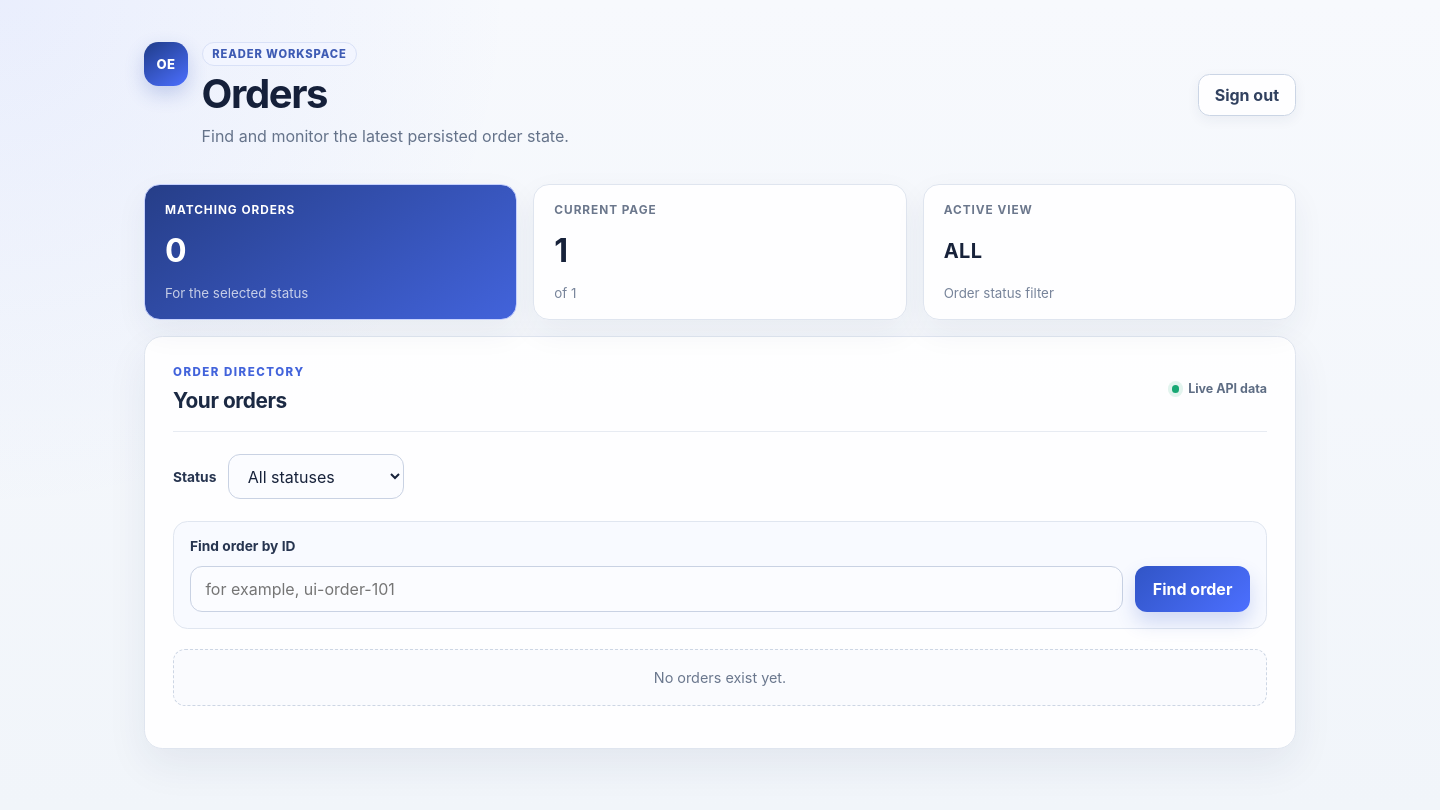
Scenario: Dashboard › shows the lookup error returned by the API client
Type "missing-order" into the field labelled "Find order by ID" at (657, 589), box [190,566,1123,612]
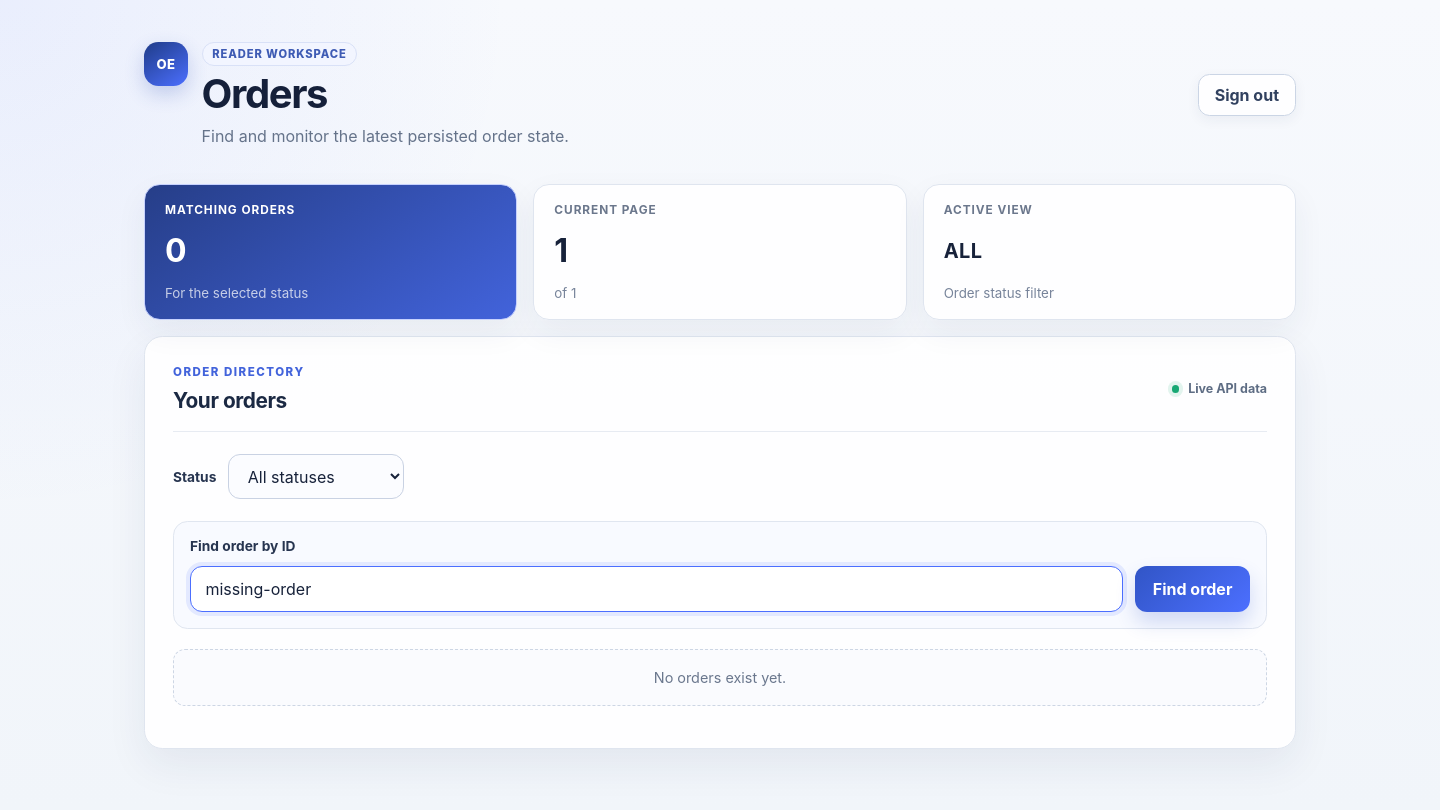
Click the button "Find order" at (1193, 589), box [1135,566,1250,612]
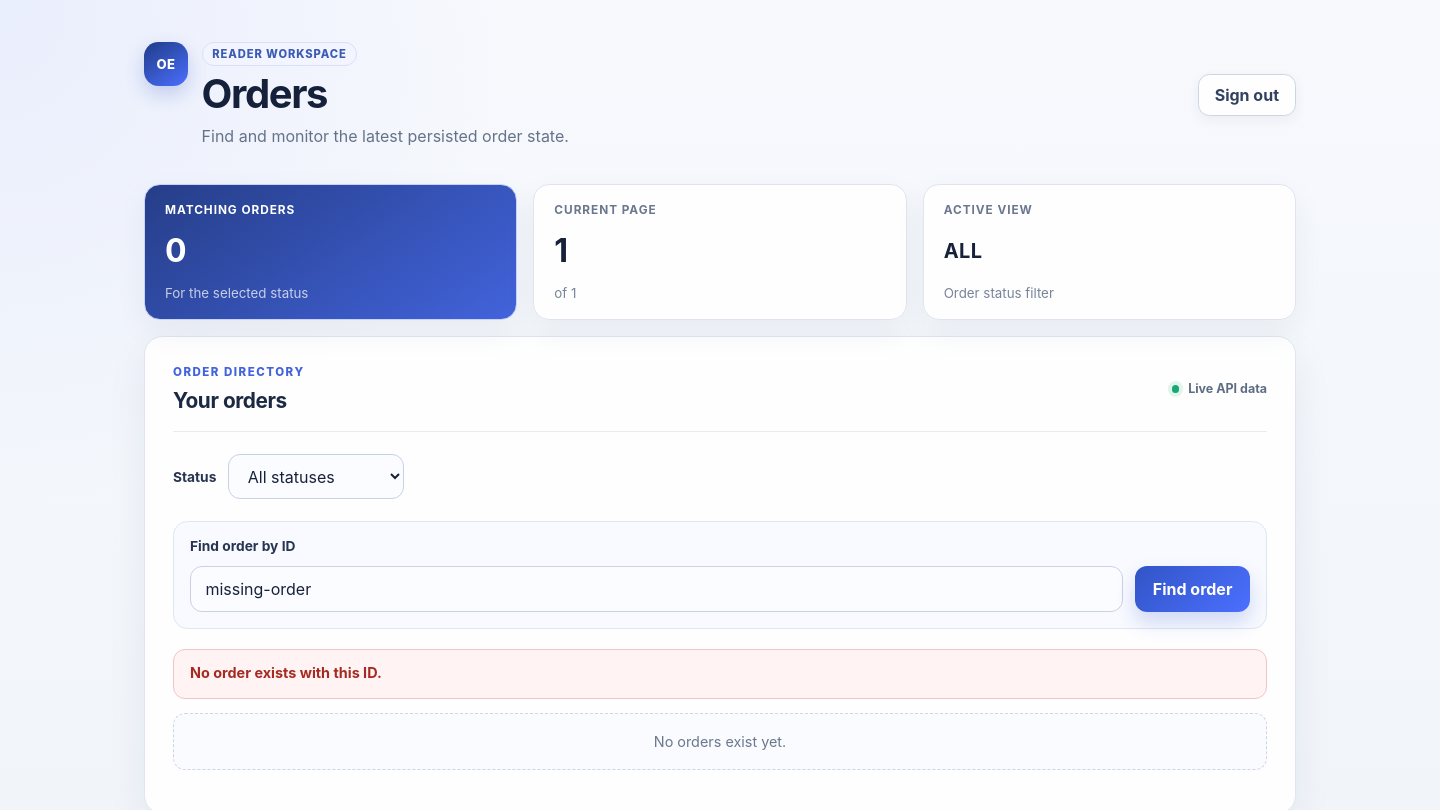
Result: the message reads "No order exists with this ID." at [190,664,382,681]
